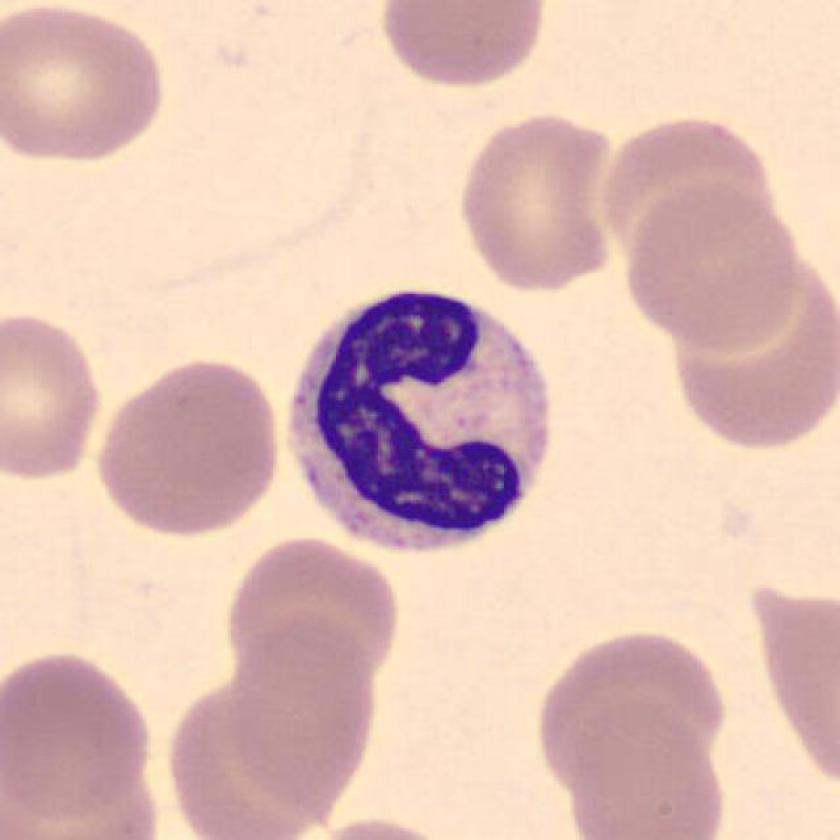neutrophil: (293, 289, 549, 550)
